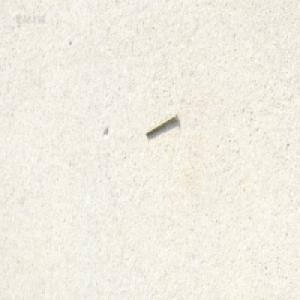Bolt: (145, 110, 178, 137)
